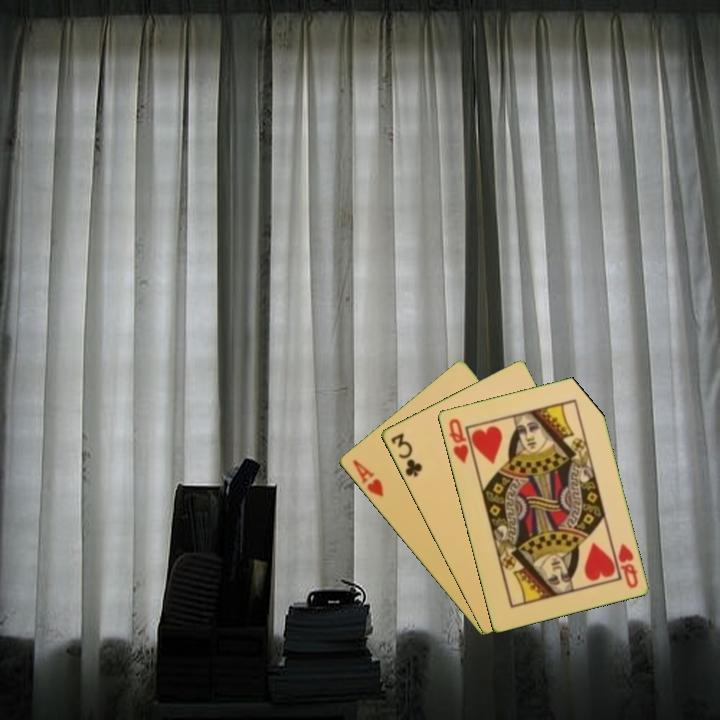3c: (387, 429, 425, 480)
Ah: (348, 456, 386, 500)
Qh: (614, 540, 641, 591), (445, 415, 471, 467)
